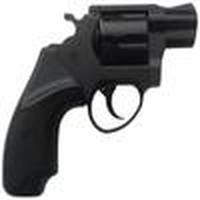gun: (2, 7, 198, 195)
